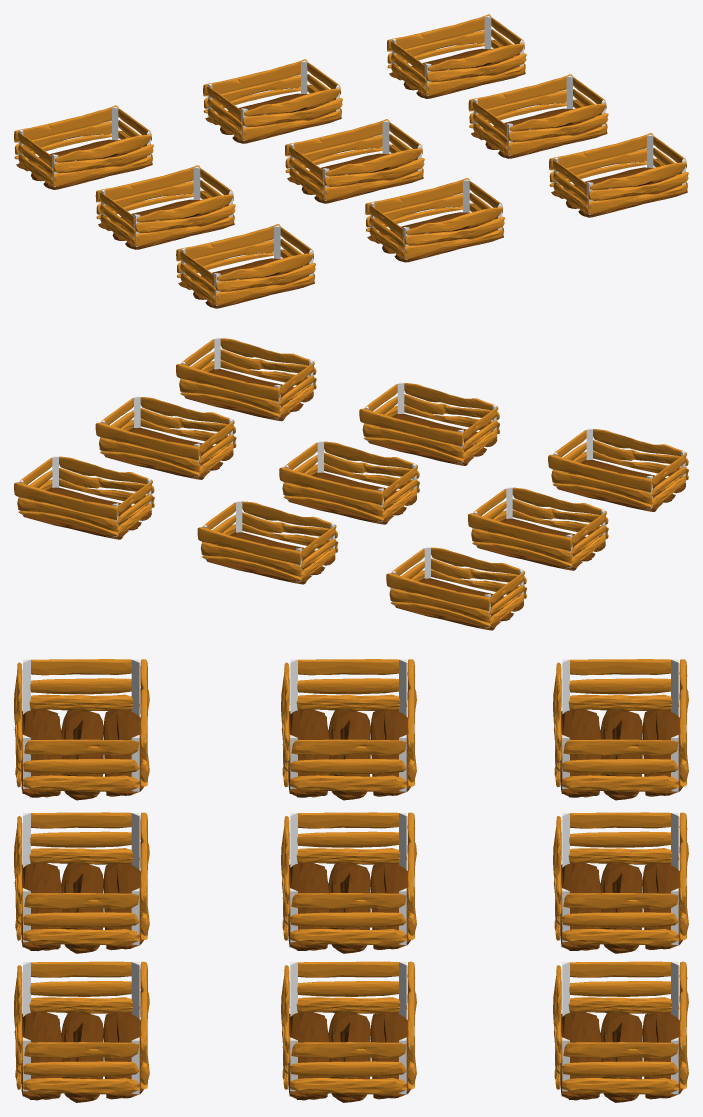
File: Crates.fbx
The picture shows the model from 3 angles, top to bottom: view 1: azimuth 30°, elevation 25°; view 2: azimuth 150°, elevation 25°; view 3: azimuth 270°, elevation 25°; orthographic projection. The views are drawn at different scales.
Visible parts, largest first — view 1: Crate.002; view 2: Crate.002; view 3: Crate.002.
Part boxes in pixels (<box>): Crate.002: <box>14,14,688,308</box>; Crate.002: <box>14,337,688,630</box>; Crate.002: <box>14,659,688,1102</box>.
Bounding box in the file's own units: 167 × 12.54 × 123.
